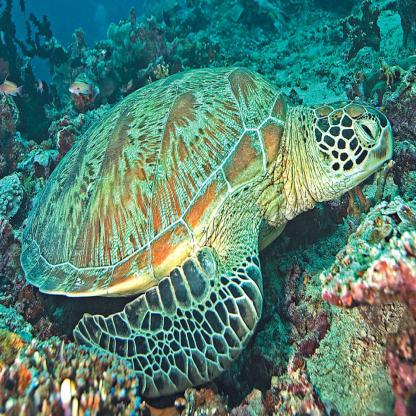turtle: (292, 96, 397, 212)
